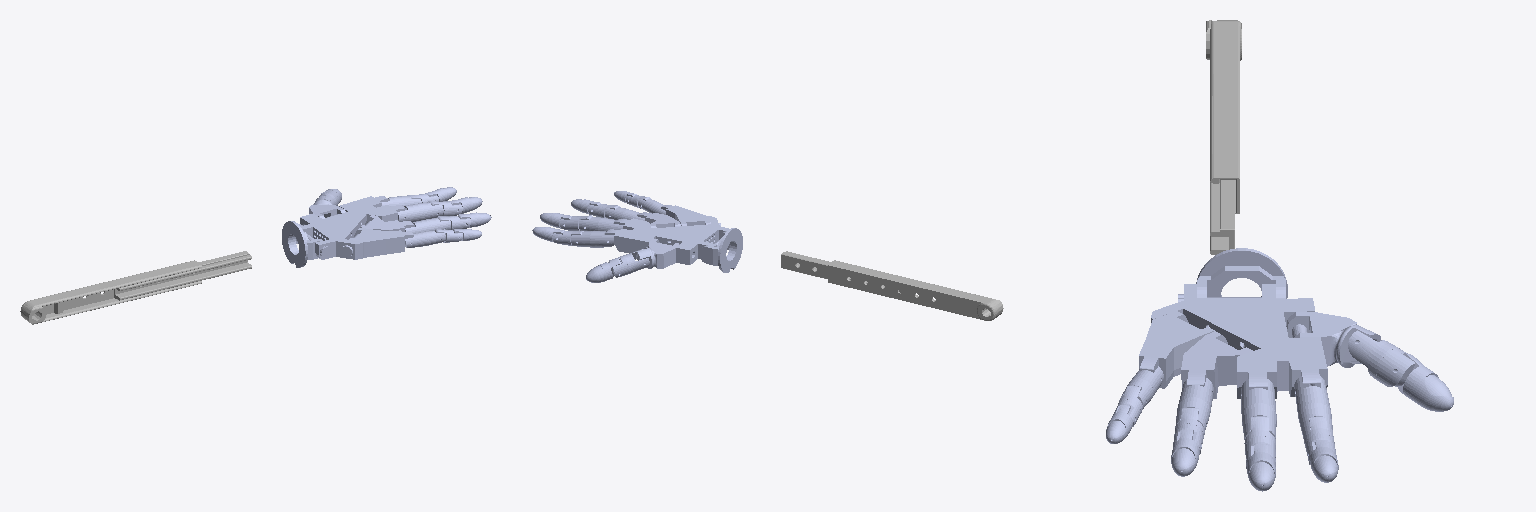
--- Render facts (derived) ---
3 views of the same robot in one strip: view 1: azimuth 30°, elevation 25°; view 2: azimuth 150°, elevation 25°; view 3: azimuth 270°, elevation 25° (orthographic).
Robot: exoskelaton_plus_hand — 23 links, 22 joints (21 revolute, 1 fixed); root link world; default pose: every joint at zero.
Visible links, largest first — view 1: palm, link_5, middle_link_1; view 2: palm, link_5, thumb_link_1, index_link_1, thumb_link_2; view 3: palm, link_5, thumb_link_1, thumb_link_2, thumb_link_3, index_link_1, middle_link_1, ring_link_1, middle_link_3, ring_link_3, index_link_3, middle_link_2 (+5 smaller).
Boxes of the visible links, box(x1,y1,x2,y2) form: palm: box(282, 196, 414, 267); link_5: box(20, 251, 251, 324); middle_link_1: box(398, 202, 443, 221); palm: box(605, 205, 742, 272); link_5: box(781, 251, 1003, 320); thumb_link_1: box(636, 238, 679, 268); index_link_1: box(571, 231, 613, 247); thumb_link_2: box(608, 249, 649, 277); palm: box(1139, 248, 1327, 398); link_5: box(1206, 20, 1241, 254); thumb_link_1: box(1286, 312, 1380, 367); thumb_link_2: box(1348, 330, 1415, 386); thumb_link_3: box(1398, 353, 1453, 411); index_link_1: box(1294, 376, 1332, 439); middle_link_1: box(1241, 379, 1276, 439); ring_link_1: box(1175, 378, 1213, 429); middle_link_3: box(1247, 444, 1275, 491); ring_link_3: box(1171, 430, 1199, 476); index_link_3: box(1310, 440, 1338, 482); middle_link_2: box(1244, 416, 1275, 468).
Size in the robot's own frame: 0.5291 by 0.1771 by 0.0465 metres.
17 mesh visuals loaded from 22 distinct referenced files (17 binary STL); not drawn: 5 (reference not matched to a file when rendering).

URDF robot description (exoskelaton_plus_hand):
<?xml version="1.0" encoding="utf-8" ?>
<!-- This URDF was automatically created by SolidWorks to URDF Exporter! Originally created by Stephen Brawner ([email redacted]) 
     Commit Version: 1.6.0-4-g7f85cfe  Build Version: 1.6.7995.38578
     For more information, please see http://wiki.ros.org/sw_urdf_exporter -->
<robot name="exoskelaton_plus_hand">
    <link name="world" />
    <joint name="world_to_base_link=" type="fixed">
        <parent link="world" />
        <child link="base_link" />
    </joint>
    <link name="base_link">
        <inertial>
            <origin xyz="-0.0836207176577604 0.00875481719950126 -0.182578110095897" rpy="0 0 0" />
            <mass value="2.51510979215834" />
            <inertia ixx="0.0228818124596641" ixy="2.21405760466253E-06" ixz="-2.41054719117493E-05" iyy="0.0160894130168314" iyz="2.94271508438108E-06" izz="0.00835275247773463" />
        </inertial>
        <visual>
            <origin xyz="0 0 0" rpy="0 0 0" />
            <geometry>
                <mesh filename="package://exoskelaton_plus_hand/meshes/base_link.STL" />
            </geometry>
            <material name="">
                <color rgba="0.749019607843137 0.749019607843137 0.749019607843137 1" />
            </material>
        </visual>
        <collision>
            <origin xyz="0 0 0" rpy="0 0 0" />
            <geometry>
                <mesh filename="package://exoskelaton_plus_hand/meshes/base_link.STL" />
            </geometry>
        </collision>
    </link>
    <link name="link_1">
        <inertial>
            <origin xyz="0.00051632 0.11245 0.1143" rpy="0 0 0" />
            <mass value="1.1771" />
            <inertia ixx="0.0010591" ixy="1.4114E-07" ixz="-2.4025E-05" iyy="0.00080811" iyz="-2.4443E-05" izz="0.00047305" />
        </inertial>
        <visual>
            <origin xyz="0 0 0" rpy="0 0 0" />
            <geometry>
                <mesh filename="package://exoskelaton_plus_hand/meshes/link_1.STL" />
            </geometry>
            <material name="">
                <color rgba="0.75294 0.75294 0.75294 1" />
            </material>
        </visual>
        <collision>
            <origin xyz="0 0 0" rpy="0 0 0" />
            <geometry>
                <mesh filename="package://exoskelaton_plus_hand/meshes/link_1.STL" />
            </geometry>
        </collision>
    </link>
    <joint name="joint_1" type="revolute">
        <origin xyz="-0.15576841452816 0.00880518561429395 -0.265864926099811" rpy="-0.00036152630959631 -0.000297710155103675 -3.14159254595974" />
        <parent link="base_link" />
        <child link="link_1" />
        <axis xyz="0 0 -1" />
        <limit lower="-3.14" upper="3.14" effort="50" velocity="3.49" />
    </joint>
    <link name="link_2">
        <inertial>
            <origin xyz="-0.0047682 0.19042 0.042951" rpy="0 0 0" />
            <mass value="1.1565" />
            <inertia ixx="0.0010548" ixy="-2.0035E-05" ixz="-3.0714E-08" iyy="0.00039569" iyz="-2.1223E-06" izz="0.00087969" />
        </inertial>
        <visual>
            <origin xyz="0 0 0" rpy="0 0 0" />
            <geometry>
                <mesh filename="package://exoskelaton_plus_hand/meshes/link_2.STL" />
            </geometry>
            <material name="">
                <color rgba="0.75294 0.75294 0.75294 1" />
            </material>
        </visual>
        <collision>
            <origin xyz="0 0 0" rpy="0 0 0" />
            <geometry>
                <mesh filename="package://exoskelaton_plus_hand/meshes/link_2.STL" />
            </geometry>
        </collision>
    </link>
    <joint name="joint_2" type="revolute">
        <origin xyz="-0.0385000000000007 0.117999999999999 0.130760035281312" rpy="-0.037127716917956 -1.57079631189374 0.0371631202033193" />
        <parent link="link_1" />
        <child link="link_2" />
        <axis xyz="0 0 -1" />
        <limit lower="-3.14" upper="3.14" effort="50" velocity="3.49" />
    </joint>
    <link name="link_3">
        <inertial>
            <origin xyz="-0.0082161 0.18797 0.044015" rpy="0 0 0" />
            <mass value="1.1562" />
            <inertia ixx="0.0010542" ixy="2.8457E-05" ixz="-4.9159E-08" iyy="0.00039561" iyz="1.6209E-06" izz="0.0008792" />
        </inertial>
        <visual>
            <origin xyz="0 0 0" rpy="0 0 0" />
            <geometry>
                <mesh filename="package://exoskelaton_plus_hand/meshes/link_3.STL" />
            </geometry>
            <material name="">
                <color rgba="0.75294 0.75294 0.75294 1" />
            </material>
        </visual>
        <collision>
            <origin xyz="0 0 0" rpy="0 0 0" />
            <geometry>
                <mesh filename="package://exoskelaton_plus_hand/meshes/link_3.STL" />
            </geometry>
        </collision>
    </link>
    <joint name="joint_3" type="revolute">
        <origin xyz="-0.0440000000000005 0.204606049200406 0.045999999999999" rpy="1.57079632679491 0 -1.5707963267949" />
        <parent link="link_2" />
        <child link="link_3" />
        <axis xyz="0 0 -1" />
        <limit lower="-3.14" upper="3.14" effort="50" velocity="3.49" />
    </joint>
    <link name="link_4">
        <inertial>
            <origin xyz="0.030218 0.25657 -0.030079" rpy="0 0 0" />
            <mass value="1.19" />
            <inertia ixx="0.0011316" ixy="-1.8161E-05" ixz="3.377E-07" iyy="0.00040064" iyz="2.4483E-05" izz="0.0013155" />
        </inertial>
        <visual>
            <origin xyz="0 0 0" rpy="0 0 0" />
            <geometry>
                <mesh filename="package://exoskelaton_plus_hand/meshes/link_4.STL" />
            </geometry>
            <material name="">
                <color rgba="0.75294 0.75294 0.75294 1" />
            </material>
        </visual>
        <collision>
            <origin xyz="0 0 0" rpy="0 0 0" />
            <geometry>
                <mesh filename="package://exoskelaton_plus_hand/meshes/link_4.STL" />
            </geometry>
        </collision>
    </link>
    <joint name="joint_4" type="revolute">
        <origin xyz="0.0330000000000062 0.202007049200406 0.0469999999999915" rpy="1.5707963267949 0 1.57109403696946" />
        <parent link="link_3" />
        <child link="link_4" />
        <axis xyz="0.00029771017016183 0 -0.999999955684326" />
        <limit lower="-3.14" upper="3.14" effort="50" velocity="3.49" />
    </joint>
    <link name="link_5">
        <inertial>
            <origin xyz="3.5672E-06 -0.11826 -0.007807" rpy="0 0 0" />
            <mass value="0.073555" />
            <inertia ixx="0.00021048" ixy="3.6788E-09" ixz="1.899E-09" iyy="4.4387E-06" iyz="1.3841E-06" izz="0.00021197" />
        </inertial>
        <visual>
            <origin xyz="0 0 0" rpy="0 0 0" />
            <geometry>
                <mesh filename="package://exoskelaton_plus_hand/meshes/link_5.STL" />
            </geometry>
            <material name="">
                <color rgba="0.75294 0.75294 0.75294 1" />
            </material>
        </visual>
        <collision>
            <origin xyz="0 0 0" rpy="0 0 0" />
            <geometry>
                <mesh filename="package://exoskelaton_plus_hand/meshes/link_5.STL" />
            </geometry>
        </collision>
    </link>
    <joint name="joint_5" type="revolute">
        <origin xyz="0.032755858725567 0.275947208661753 0.0100097521958599" rpy="-0.000297710174561625 0 1.57079632679491" />
        <parent link="link_4" />
        <child link="link_5" />
        <axis xyz="0 0 -1" />
        <limit lower="-3.14" upper="3.14" effort="50" velocity="3.49" />
    </joint>
    <transmission name="trans_joint_1">
        <type>transmission_interface/SimpleTransmission</type>
        <joint name="joint_1">
            <hardwareInterface>hardware_interface/EffortJointInterface</hardwareInterface>
        </joint>
        <actuator name="joint_1_motor">
            <hardwareInterface>hardware_interface/EffortJointInterface</hardwareInterface>
            <mechanicalReduction>1</mechanicalReduction>
        </actuator>
    </transmission>
    <transmission name="trans_joint_2">
        <type>transmission_interface/SimpleTransmission</type>
        <joint name="joint_2">
            <hardwareInterface>hardware_interface/EffortJointInterface</hardwareInterface>
        </joint>
        <actuator name="joint_2_motor">
            <hardwareInterface>hardware_interface/EffortJointInterface</hardwareInterface>
            <mechanicalReduction>1</mechanicalReduction>
        </actuator>
    </transmission>
    <transmission name="trans_joint_3">
        <type>transmission_interface/SimpleTransmission</type>
        <joint name="joint_3">
            <hardwareInterface>hardware_interface/EffortJointInterface</hardwareInterface>
        </joint>
        <actuator name="joint_3_motor">
            <hardwareInterface>hardware_interface/EffortJointInterface</hardwareInterface>
            <mechanicalReduction>1</mechanicalReduction>
        </actuator>
    </transmission>
    <transmission name="trans_joint_4">
        <type>transmission_interface/SimpleTransmission</type>
        <joint name="joint_4">
            <hardwareInterface>hardware_interface/EffortJointInterface</hardwareInterface>
        </joint>
        <actuator name="joint_4_motor">
            <hardwareInterface>hardware_interface/EffortJointInterface</hardwareInterface>
            <mechanicalReduction>1</mechanicalReduction>
        </actuator>
    </transmission>
    <transmission name="trans_joint_5">
        <type>transmission_interface/SimpleTransmission</type>
        <joint name="joint_5">
            <hardwareInterface>hardware_interface/EffortJointInterface</hardwareInterface>
        </joint>
        <actuator name="joint_5_motor">
            <hardwareInterface>hardware_interface/EffortJointInterface</hardwareInterface>
            <mechanicalReduction>1</mechanicalReduction>
        </actuator>
    </transmission>
    <gazebo>
        <plugin name="gazebo_ros_control" filename="libgazebo_ros_control.so">
            <robotNamespace>/exoskelaton_plus_hand</robotNamespace>
        </plugin>
    </gazebo>
    <gazebo reference="base_link">
        <mu1>0.2</mu1>
        <mu2>0.2</mu2>
        <kd>0.2</kd>
        <gravity>0</gravity>
    </gazebo>
    <gazebo reference="link_1">
        <mu1>0.2</mu1>
        <mu2>0.2</mu2>
        <kd>0.2</kd>
        <gravity>0</gravity>
    </gazebo>
    <gazebo reference="link_2">
        <mu1>0.2</mu1>
        <mu2>0.2</mu2>
        <kd>0.2</kd>
        <gravity>0</gravity>
    </gazebo>
    <gazebo reference="link_3">
        <mu1>0.2</mu1>
        <mu2>0.2</mu2>
        <kd>0.2</kd>
        <gravity>0</gravity>
    </gazebo>
    <gazebo reference="link_4">
        <mu1>0.2</mu1>
        <mu2>0.2</mu2>
        <kd>0.2</kd>
        <gravity>0</gravity>
    </gazebo>
    <gazebo reference="link_5">
        <mu1>0.2</mu1>
        <mu2>0.2</mu2>
        <kd>0.2</kd>
        <gravity>0</gravity>
    </gazebo>
    <!-- ///////////////////////////////////////////////////////////////////////hand/////////////////////////////////////////////////////////////// -->
    <!-- ///////////////////////////////////////////////////////////////////////hand/////////////////////////////////////////////////////////////// -->
    <!-- ///////////////////////////////////////////////////////////////////////hand/////////////////////////////////////////////////////////////// -->
    <!-- ///////////////////////////////////////////////////////////////////////hand/////////////////////////////////////////////////////////////// -->
    <joint name="link_5_to_palm" type="revolute">
        <origin xyz="0 -0.3 0" rpy="1.5708 1.5708 0" />
        <parent link="link_5" />
        <child link="palm" />
        <axis xyz="0 0 -1" />
        <limit lower="-1" upper="2" effort="15" velocity="137" />
    </joint>
    <link name="palm">
        <inertial>
            <origin xyz="0.00398178507403143 8.10912535103292E-05 0.0640495520207742" rpy="0 0 0" />
            <mass value="0.111751758328988" />
            <!-- <inertia ixx="6.59202525142851E-05" ixy="-1.22829107034955E-07" ixz="1.81754919948642E-05" iyy="9.3013080838165E-05" iyz="2.30342036318053E-07" izz="3.38720512333921E-05" /> -->
            <inertia ixx="1e-3" ixy="0.0" ixz="0.0" iyy="1e-3" iyz="0.0" izz="1e-3" />
        </inertial>
        <visual>
            <origin xyz="0 0 0" rpy="0 0 0" />
            <geometry>
                <mesh filename="package://hand_model/meshes/palm.STL" />
            </geometry>
            <material name="">
                <color rgba="0.792156862745098 0.819607843137255 0.933333333333333 1" />
            </material>
        </visual>
        <collision>
            <origin xyz="0 0 0" rpy="0 0 0" />
            <geometry>
                <mesh filename="package://hand_model/meshes/palm.STL" />
            </geometry>
        </collision>
    </link>
    <gazebo reference="palm">
        <mu1>0.2</mu1>
        <mu2>0.2</mu2>
        <kd>0.2</kd>
        <gravity>0</gravity>
    </gazebo>

    <link name="thumb_link_1">
        <inertial>
            <origin xyz="0.000480535490973766 0.0145868596829117 0.002112956638099" rpy="0 0 0" />
            <mass value="0.0113562962089711" />
            <!-- <inertia ixx="1.13781700766449E-06" ixy="-3.17874553723836E-09" ixz="1.02179230912118E-08" iyy="9.83244760493048E-07" iyz="7.32596805137895E-08" izz="7.56438518318171E-07" /> -->
            <inertia ixx="1e-3" ixy="0.0" ixz="0.0" iyy="1e-3" iyz="0.0" izz="1e-3" />
        </inertial>
        <visual>
            <origin xyz="0 0 0" rpy="0 0 0" />
            <geometry>
                <mesh filename="package://hand_model/meshes/thumb_link_1.STL" />
            </geometry>
            <material name="">
                <color rgba="0.792156862745098 0.819607843137255 0.933333333333333 1" />
            </material>
        </visual>
        <collision>
            <origin xyz="0 0 0" rpy="0 0 0" />
            <geometry>
                <mesh filename="package://hand_model/meshes/thumb_link_1.STL" />
            </geometry>
        </collision>
    </link>
    <gazebo reference="thumb_link_1">
        <mu1>0.2</mu1>
        <mu2>0.2</mu2>
        <kd>0.2</kd>
        <gravity>0</gravity>
    </gazebo>
    <joint name="thumb_joint_1" type="revolute">
        <origin xyz="-0.030154 -2.0111E-05 0.05991" rpy="-0.083072 0 1.5708" />
        <parent link="palm" />
        <child link="thumb_link_1" />
        <axis xyz="0 0 -1" />
        <limit lower="-1" upper="2" effort="15" velocity="137" />
    </joint>
    <link name="thumb_link_2">
        <inertial>
            <origin xyz="-0.00303085130066873 0.017257431665413 -0.000249993554026592" rpy="0 0 0" />
            <mass value="0.00578743285449284" />
            <inertia ixx="1e-3" ixy="0.0" ixz="0.0" iyy="1e-3" iyz="0.0" izz="1e-3" />
            <!-- <inertia ixx="3.72260695118556E-07" ixy="6.77304435528928E-09" ixz="6.94275441710355E-13" iyy="3.36039703432571E-07" iyz="5.44710417598588E-13" izz="2.90221029790483E-07" /> -->
        </inertial>
        <visual>
            <origin xyz="0 0 0" rpy="0 0 0" />
            <geometry>
                <mesh filename="package://hand_model/meshes/thumb_link_2.STL" />
            </geometry>
            <material name="">
                <color rgba="0.792156862745098 0.819607843137255 0.933333333333333 1" />
            </material>
        </visual>
        <collision>
            <origin xyz="0 0 0" rpy="0 0 0" />
            <geometry>
                <mesh filename="package://hand_model/meshes/thumb_link_2.STL" />
            </geometry>
        </collision>
    </link>
    <gazebo reference="thumb_link_2">
        <mu1>0.2</mu1>
        <mu2>0.2</mu2>
        <kd>0.2</kd>
        <gravity>0</gravity>
    </gazebo>
    <joint name="thumb_joint_2" type="revolute">
        <origin xyz="-0.002073 0.032273 0.012004" rpy="0.82045 0.054788 -0.71905" />
        <parent link="thumb_link_1" />
        <child link="thumb_link_2" />
        <axis xyz="0 0 -1" />
        <limit lower="-1" upper="2" effort="15" velocity="137" />
    </joint>
    <link name="thumb_link_3">
        <inertial>
            <origin xyz="-0.00349327848726758 0.0128547260693688 -9.39948939422675E-06" rpy="0 0 0" />
            <mass value="0.00408620369773343" />
            <inertia ixx="1e-3" ixy="0.0" ixz="0.0" iyy="1e-3" iyz="0.0" izz="1e-3" />
            <!-- <inertia ixx="1.85582766063067E-07" ixy="-8.83579093640966E-09" ixz="-1.32434624542555E-10" iyy="1.61808260214828E-07" iyz="-5.23413946701733E-11" izz="1.9595038842159E-07" /> -->
        </inertial>
        <visual>
            <origin xyz="0 0 0" rpy="0 0 0" />
            <geometry>
                <mesh filename="package://hand_model/meshes/thumb_link_3.STL" />
            </geometry>
            <material name="">
                <color rgba="0.792156862745098 0.819607843137255 0.933333333333333 1" />
            </material>
        </visual>
        <collision>
            <origin xyz="0 0 0" rpy="0 0 0" />
            <geometry>
                <mesh filename="package://hand_model/meshes/thumb_link_3.STL" />
            </geometry>
        </collision>
    </link>
    <gazebo reference="thumb_link_3">
        <mu1>0.2</mu1>
        <mu2>0.2</mu2>
        <kd>0.2</kd>
        <gravity>0</gravity>
    </gazebo>
    <joint name="thumb_joint_3" type="revolute">
        <origin xyz="-0.007204 0.027206 -0.00025" rpy="0 0 0" />
        <parent link="thumb_link_2" />
        <child link="thumb_link_3" />
        <axis xyz="0 0 -1" />
        <limit lower="-1" upper="2" effort="15" velocity="137" />
    </joint>
    <link name="index_link_1">
        <inertial>
            <origin xyz="0.00407338133198946 0.0177525322104453 2.43319666984321E-08" rpy="0 0 0" />
            <mass value="0.0046466246966024" />
            <inertia ixx="1e-3" ixy="0.0" ixz="0.0" iyy="1e-3" iyz="0.0" izz="1e-3" />
            <!-- <inertia ixx="3.38369766839694E-07" ixy="-2.47947379691602E-08" ixz="1.44225221072837E-10" iyy="2.24949299831406E-07" iyz="-2.44769897321249E-11" izz="2.9890250388258E-07" /> -->
        </inertial>
        <visual>
            <origin xyz="0 0 0" rpy="0 0 0" />
            <geometry>
                <mesh filename="package://hand_model/meshes/index_link_1.STL" />
            </geometry>
            <material name="">
                <color rgba="0.792156862745098 0.819607843137255 0.933333333333333 1" />
            </material>
        </visual>
        <collision>
            <origin xyz="0 0 0" rpy="0 0 0" />
            <geometry>
                <mesh filename="package://hand_model/meshes/index_link_1.STL" />
            </geometry>
        </collision>
    </link>
    <gazebo reference="index_link_1">
        <mu1>0.2</mu1>
        <mu2>0.2</mu2>
        <kd>0.2</kd>
        <gravity>0</gravity>
    </gazebo>
    <joint name="index_joint_1" type="revolute">
        <origin xyz="-0.035268 0.00047989 0.12131" rpy="1.4739 0 1.5708" />
        <parent link="palm" />
        <child link="index_link_1" />
        <axis xyz="0 0 -1" />
        <limit lower="-1" upper="2" effort="15" velocity="137" />
    </joint>
    <link name="index_link_2">
        <inertial>
            <origin xyz="-1.5439372539866E-05 0.010908424048257 3.00263251588884E-07" rpy="0 0 0" />
            <mass value="0.00296941760010457" />
            <inertia ixx="1e-3" ixy="0.0" ixz="0.0" iyy="1e-3" iyz="0.0" izz="1e-3" />
            <!-- <inertia ixx="1.09847057187147E-07" ixy="-8.3784028766554E-09" ixz="4.58168497393427E-12" iyy="9.39400733606131E-08" iyz="5.81266068790845E-12" izz="1.09028692776289E-07" /> -->
        </inertial>
        <visual>
            <origin xyz="0 0 0" rpy="0 0 0" />
            <geometry>
                <mesh filename="package://hand_model/meshes/index_link_2.STL" />
            </geometry>
            <material name="">
                <color rgba="0.792156862745098 0.819607843137255 0.933333333333333 1" />
            </material>
        </visual>
        <collision>
            <origin xyz="0 0 0" rpy="0 0 0" />
            <geometry>
                <mesh filename="package://hand_model/meshes/index_link_2.STL" />
            </geometry>
        </collision>
    </link>
    <gazebo reference="index_link_2">
        <mu1>0.2</mu1>
        <mu2>0.2</mu2>
        <kd>0.2</kd>
        <gravity>0</gravity>
    </gazebo>
    <joint name="index_joint_2" type="revolute">
        <origin xyz="0.0076786 0.034995 0" rpy="0 0 0" />
        <parent link="index_link_1" />
        <child link="index_link_2" />
        <axis xyz="0 0 -1" />
        <limit lower="-1" upper="2" effort="15" velocity="137" />
    </joint>
    <link name="index_link_3">
        <inertial>
            <origin xyz="-0.000487872429690561 0.0114597226343094 -1.57240996635777E-06" rpy="0 0 0" />
            <mass value="0.00245834972177606" />
            <inertia ixx="1e-3" ixy="0.0" ixz="0.0" iyy="1e-3" iyz="0.0" izz="1e-3" />
            <!-- <inertia ixx="8.11602987802594E-08" ixy="-5.06755476403747E-09" ixz="-2.83209703693174E-11" iyy="6.0922204814845E-08" iyz="-3.32151067881427E-11" izz="8.42602481875842E-08" /> -->
        </inertial>
        <visual>
            <origin xyz="0 0 0" rpy="0 0 0" />
            <geometry>
                <mesh filename="package://hand_model/meshes/index_link_3.STL" />
            </geometry>
            <material name="">
                <color rgba="0.792156862745098 0.819607843137255 0.933333333333333 1" />
            </material>
        </visual>
        <collision>
            <origin xyz="0 0 0" rpy="0 0 0" />
            <geometry>
                <mesh filename="package://hand_model/meshes/index_link_3.STL" />
            </geometry>
        </collision>
    </link>
    <gazebo reference="index_link_3">
        <mu1>0.2</mu1>
        <mu2>0.2</mu2>
        <kd>0.2</kd>
        <gravity>0</gravity>
    </gazebo>
    <joint name="index_joint_3" type="revolute">
        <origin xyz="0.000847006741910045 0.0230332928514179 0" rpy="0 0 0" />
        <parent link="index_link_2" />
        <child link="index_link_3" />
        <axis xyz="0 0 -1" />
        <limit lower="-1" upper="2" effort="15" velocity="137" />
    </joint>
    <link name="middle_link_1">
        <inertial>
            <origin xyz="0.00251904243680481 0.0190498026770943 2.52256893923733E-06" rpy="0 0 0" />
            <mass value="0.00545626174368886" />
            <inertia ixx="1e-3" ixy="0.0" ixz="0.0" iyy="1e-3" iyz="0.0" izz="1e-3" />
            <!-- <inertia ixx="4.46988355734783E-07" ixy="-1.79702663003493E-08" ixz="1.90530330665356E-10" iyy="2.89246503300969E-07" iyz="-1.41330773802651E-11" izz="3.9065421775643E-07" /> -->
        </inertial>
        <visual>
            <origin xyz="0 0 0" rpy="0 0 0" />
            <geometry>
                <mesh filename="package://hand_model/meshes/middle_link_1.STL" />
            </geometry>
            <material name="">
                <color rgba="0.792156862745098 0.819607843137255 0.933333333333333 1" />
            </material>
        </visual>
        <collision>
            <origin xyz="0 0 0" rpy="0 0 0" />
            <geometry>
                <mesh filename="package://hand_model/meshes/middle_link_1.STL" />
            </geometry>
        </collision>
    </link>
    <gazebo reference="middle_link_1">
        <mu1>0.2</mu1>
        <mu2>0.2</mu2>
        <kd>0.2</kd>
        <gravity>0</gravity>
    </gazebo>
    <joint name="middle_joint_1" type="revolute">
        <origin xyz="-0.0083551 0.00047989 0.12582" rpy="1.547 0 1.5708" />
        <parent link="palm" />
        <child link="middle_link_1" />
        <axis xyz="0 0 -1" />
        <limit lower="-1" upper="2" effort="15" velocity="137" />
    </joint>
    <link name="middle_link_2">
        <inertial>
            <origin xyz="0.000880161188127726 0.0114746705006476 4.00731621696612E-07" rpy="0 0 0" />
            <mass value="0.00348681182236452" />
            <inertia ixx="1e-3" ixy="0.0" ixz="0.0" iyy="1e-3" iyz="0.0" izz="1e-3" />
            <!-- <inertia ixx="1.41738873476372E-07" ixy="-1.24314266526586E-08" ixz="6.05937003196824E-12" iyy="1.24602391482965E-07" iyz="6.20347461624125E-12" izz="1.42495929181389E-07" /> -->
        </inertial>
        <visual>
            <origin xyz="0 0 0" rpy="0 0 0" />
            <geometry>
                <mesh filename="package://hand_model/meshes/middle_link_2.STL" />
            </geometry>
            <material name="">
                <color rgba="0.792156862745098 0.819607843137255 0.933333333333333 1" />
            </material>
        </visual>
        <collision>
            <origin xyz="0 0 0" rpy="0 0 0" />
            <geometry>
                <mesh filename="package://hand_model/meshes/middle_link_2.STL" />
            </geometry>
        </collision>
    </link>
    <gazebo reference="middle_link_2">
        <mu1>0.2</mu1>
        <mu2>0.2</mu2>
        <kd>0.2</kd>
        <gravity>0</gravity>
    </gazebo>
    <joint name="middle_joint_2" type="revolute">
        <origin xyz="0.00459697603869801 0.0375173079770415 0" rpy="0 0 0" />
        <parent link="middle_link_1" />
        <child link="middle_link_2" />
        <axis xyz="0 0 -1" />
        <limit lower="-1" upper="2" effort="15" velocity="137" />
    </joint>
    <link name="middle_link_3">
        <inertial>
            <origin xyz="5.37425869840402E-05 0.0121009108879537 -1.66057694117681E-06" rpy="0 0 0" />
            <mass value="0.00288670521848281" />
            <inertia ixx="1e-3" ixy="0.0" ixz="0.0" iyy="1e-3" iyz="0.0" izz="1e-3" />
            <!-- <inertia ixx="1.05394832954209E-07" ixy="-7.83485651909123E-09" ixz="-3.89173185887022E-11" iyy="8.03025413579198E-08" iyz="-4.15543641170679E-11" izz="1.10126113548967E-07" /> -->
        </inertial>
        <visual>
            <origin xyz="0 0 0" rpy="0 0 0" />
            <geometry>
                <mesh filename="package://hand_model/meshes/middle_link_3.STL" />
            </geometry>
            <material name="">
                <color rgba="0.792156862745098 0.819607843137255 0.933333333333333 1" />
            </material>
        </visual>
        <collision>
            <origin xyz="0 0 0" rpy="0 0 0" />
            <geometry>
                <mesh filename="package://hand_model/meshes/middle_link_3.STL" />
            </geometry>
        </collision>
    </link>
    <gazebo reference="middle_link_3">
        <mu1>0.2</mu1>
        <mu2>0.2</mu2>
        <kd>0.2</kd>
        <gravity>0</gravity>
    </gazebo>
    <joint name="middle_joint_3" type="revolute">
        <origin xyz="0.0027837 0.024157 0" rpy="0 0 0" />
        <parent link="middle_link_2" />
        <child link="middle_link_3" />
        <axis xyz="0 0 -1" />
        <limit lower="-1" upper="2" effort="15" velocity="137" />
    </joint>
    <link name="ring_link_1">
        <inertial>
            <origin xyz="0.000823916052037396 0.018195238836138 5.00087841322841E-05" rpy="0 0 0" />
            <mass value="0.00464663274460316" />
            <inertia ixx="1e-3" ixy="0.0" ixz="0.0" iyy="1e-3" iyz="0.0" izz="1e-3" />
            <!-- <inertia ixx="3.43469696913586E-07" ixy="-3.19119027240479E-09" ixz="1.45711871260807E-10" iyy="2.19848338835539E-07" iyz="1.81868990757054E-12" izz="2.98903887716956E-07" /> -->
        </inertial>
        <visual>
            <origin xyz="0 0 0" rpy="0 0 0" />
            <geometry>
                <mesh filename="package://hand_model/meshes/ring_link_1.STL" />
            </geometry>
            <material name="">
                <color rgba="0.792156862745098 0.819607843137255 0.933333333333333 1" />
            </material>
        </visual>
        <collision>
            <origin xyz="0 0 0" rpy="0 0 0" />
            <geometry>
                <mesh filename="package://hand_model/meshes/ring_link_1.STL" />
            </geometry>
        </collision>
    </link>
    <gazebo reference="ring_link_1">
        <mu1>0.2</mu1>
        <mu2>0.2</mu2>
        <kd>0.2</kd>
        <gravity>0</gravity>
    </gazebo>
    <joint name="ring_joint_1" type="revolute">
        <origin xyz="0.0226342745747556 0.00320405106578732 0.117484377731786" rpy="1.65768440995122 0 1.62662995106835" />
        <parent link="palm" />
        <child link="ring_link_1" />
        <axis xyz="0 0 -1" />
        <limit lower="-1" upper="2" effort="15" velocity="137" />
    </joint>
    <link name="ring_link_2">
        <inertial>
            <origin xyz="-0.000432388535001244 0.0108998702030702 4.75443835173256E-07" rpy="0 0 0" />
            <mass value="0.00296941842138868" />
            <inertia ixx="1e-3" ixy="0.0" ixz="0.0" iyy="1e-3" iyz="0.0" izz="1e-3" />
            <!-- <inertia ixx="1.10463879228306E-07" ixy="-7.74638165034737E-09" ixz="3.8240027072717E-12" iyy="9.3323265854841E-08" iyz="4.36314007998678E-12" izz="1.09028708081398E-07" /> -->
        </inertial>
        <visual>
            <origin xyz="0 0 0" rpy="0 0 0" />
            <geometry>
                <mesh filename="package://hand_model/meshes/ring_link_2.STL" />
            </geometry>
            <material name="">
                <color rgba="0.792156862745098 0.819607843137255 0.933333333333333 1" />
            </material>
        </visual>
        <collision>
            <origin xyz="0 0 0" rpy="0 0 0" />
            <geometry>
                <mesh filename="package://hand_model/meshes/ring_link_2.STL" />
            </geometry>
        </collision>
    </link>
    <gazebo reference="ring_link_2">
        <mu1>0.2</mu1>
        <mu2>0.2</mu2>
        <kd>0.2</kd>
        <gravity>0</gravity>
    </gazebo>
    <joint name="ring_joint_2" type="revolute">
        <origin xyz="0.0012788 0.035805 5E-05" rpy="0 0 0" />
        <parent link="ring_link_1" />
        <child link="ring_link_2" />
        <axis xyz="0 0 -1" />
        <limit lower="-1" upper="2" effort="15" velocity="137" />
    </joint>
    <link name="ring_link_3">
        <inertial>
            <origin xyz="0.000515277857644728 0.0114586186078016 -1.57570140629087E-06" rpy="0 0 0" />
            <mass value="0.0024583610636929" />
            <inertia ixx="1e-3" ixy="0.0" ixz="0.0" iyy="1e-3" iyz="0.0" izz="1e-3" />
            <!-- <inertia ixx="8.01251621607957E-08" ixy="-6.75175030101657E-09" ixz="-3.1017025931551E-11" iyy="6.19586614914186E-08" iyz="-3.05623454712637E-11" izz="8.42616837502922E-08" /> -->
        </inertial>
        <visual>
            <origin xyz="0 0 0" rpy="0 0 0" />
            <geometry>
                <mesh filename="package://hand_model/meshes/ring_link_3.STL" />
            </geometry>
            <material name="">
                <color rgba="0.792156862745098 0.819607843137255 0.933333333333333 1" />
            </material>
        </visual>
        <collision>
            <origin xyz="0 0 0" rpy="0 0 0" />
            <geometry>
                <mesh filename="package://hand_model/meshes/ring_link_3.STL" />
            </geometry>
        </collision>
    </link>
    <gazebo reference="ring_link_3">
        <mu1>0.2</mu1>
        <mu2>0.2</mu2>
        <kd>0.2</kd>
        <gravity>0</gravity>
    </gazebo>
    <joint name="ring_joint_3" type="revolute">
        <origin xyz="-3.40420420648219E-05 0.0230488360040028 0" rpy="0 0 0" />
        <parent link="ring_link_2" />
        <child link="ring_link_3" />
        <axis xyz="0 0 -1" />
        <limit lower="-1" upper="2" effort="15" velocity="137" />
    </joint>
    <link name="little_link_1">
        <inertial>
            <origin xyz="-0.00024361 0.015179 0.0001294" rpy="0 0 0" />
            <mass value="0.0026906" />
            <inertia ixx="1e-3" ixy="0.0" ixz="0.0" iyy="1e-3" iyz="0.0" izz="1e-3" />
            <!-- <inertia ixx="1.3814E-07" ixy="1.7664E-09" ixz="5.8481E-11" iyy="8.847E-08" iyz="4.1826E-12" izz="1.2024E-07" /> -->
        </inertial>
        <visual>
            <origin xyz="0 0 0" rpy="0 0 0" />
            <geometry>
                <mesh filename="package://hand_model/meshes/little_link_1.STL" />
            </geometry>
            <material name="">
                <color rgba="0.79216 0.81961 0.93333 1" />
            </material>
        </visual>
        <collision>
            <origin xyz="0 0 0" rpy="0 0 0" />
            <geometry>
                <mesh filename="package://hand_model/meshes/little_link_1.STL" />
            </geometry>
        </collision>
    </link>
    <gazebo reference="little_link_1">
        <mu1>0.2</mu1>
        <mu2>0.2</mu2>
        <kd>0.2</kd>
        <gravity>0</gravity>
    </gazebo>
    <joint name="little_joint_1" type="revolute">
        <origin xyz="0.0471983745399469 0.000985065663559576 0.103855745405405" rpy="1.8247619964648 0 1.57975463552551" />
        <parent link="palm" />
        <child link="little_link_1" />
        <axis xyz="0 0 -1" />
        <limit lower="-1" upper="2" effort="15" velocity="137" />
    </joint>
    <link name="little_link_2">
        <inertial>
            <origin xyz="-5.14078945346441E-05 0.00909196530865719 1.45681774497974E-07" rpy="0 0 0" />
            <mass value="0.00171949570189397" />
            <inertia ixx="1e-3" ixy="0.0" ixz="0.0" iyy="1e-3" iyz="0.0" izz="1e-3" />
            <!-- <inertia ixx="4.42251425969163E-08" ixy="-3.34385973164639E-09" ixz="2.12015704299987E-12" iyy="3.77628200395036E-08" iyz="3.02015825400748E-12" izz="4.38544223193975E-08" /> -->
        </inertial>
        <visual>
            <origin xyz="0 0 0" rpy="0 0 0" />
            <geometry>
                <mesh filename="package://hand_model/meshes/little_link_2.STL" />
            </geometry>
            <material name="">
                <color rgba="0.792156862745098 0.819607843137255 0.933333333333333 1" />
            </material>
        </visual>
        <collision>
            <origin xyz="0 0 0" rpy="0 0 0" />
            <geometry>
                <mesh filename="package://hand_model/meshes/little_link_2.STL" />
            </geometry>
        </collision>
    </link>
    <gazebo reference="little_link_2">
        <mu1>0.2</mu1>
        <mu2>0.2</mu2>
        <kd>0.2</kd>
        <gravity>0</gravity>
    </gazebo>
    <joint name="little_joint_2" type="revolute">
        <origin xyz="-0.00076424 0.029852 0.00012939" rpy="0 0 0" />
        <parent link="little_link_1" />
        <child link="little_link_2" />
        <axis xyz="0 0 -1" />
        <limit lower="-1" upper="2" effort="15" velocity="137" />
    </joint>
    <link name="little_link_3">
        <inertial>
            <origin xyz="0.000661822960255715 0.00953748399637797 -1.30618044281994E-06" rpy="0 0 0" />
            <mass value="0.00142350448976469" />
            <inertia ixx="1e-3" ixy="0.0" ixz="0.0" iyy="1e-3" iyz="0.0" izz="1e-3" />
            <!-- <inertia ixx="3.20960725011177E-08" ixy="-2.89068356626485E-09" ixz="-1.27739873269651E-11" iyy="2.50612242140336E-08" iyz="-1.19962559085468E-11" izz="3.38966301117611E-08" /> -->
        </inertial>
        <visual>
            <origin xyz="0 0 0" rpy="0 0 0" />
            <geometry>
                <mesh filename="package://hand_model/meshes/little_link_3.STL" />
            </geometry>
            <material name="">
                <color rgba="0.792156862745098 0.819607843137255 0.933333333333333 1" />
            </material>
        </visual>
        <collision>
            <origin xyz="0 0 0" rpy="0 0 0" />
            <geometry>
                <mesh filename="package://hand_model/meshes/little_link_3.STL" />
            </geometry>
        </collision>
    </link>
    <gazebo reference="little_link_3">
        <mu1>0.2</mu1>
        <mu2>0.2</mu2>
        <kd>0.2</kd>
        <gravity>0</gravity>
    </gazebo>
    <joint name="little_joint_3" type="revolute">
        <origin xyz="0.00062466 0.019201 0" rpy="0 0 0" />
        <parent link="little_link_2" />
        <child link="little_link_3" />
        <axis xyz="0 0 -1" />
        <limit lower="-1" upper="2" effort="15" velocity="137" />
    </joint>
    <transmission name="trans_thumb_joint_1">
        <type>transmission_interface/SimpleTransmission</type>
        <joint name="thumb_joint_1">
            <hardwareInterface>hardware_interface/EffortJointInterface</hardwareInterface>
        </joint>
        <actuator name="thumb_joint_1_motor">
            <hardwareInterface>hardware_interface/EffortJointInterface</hardwareInterface>
            <mechanicalReduction>1</mechanicalReduction>
        </actuator>
    </transmission>
    <transmission name="trans_thumb_joint_2">
        <type>transmission_interface/SimpleTransmission</type>
        <joint name="thumb_joint_2">
            <hardwareInterface>hardware_interface/EffortJointInterface</hardwareInterface>
        </joint>
        <actuator name="thumb_joint_2_motor">
            <hardwareInterface>hardware_interface/EffortJointInterface</hardwareInterface>
            <mechanicalReduction>1</mechanicalReduction>
        </actuator>
    </transmission>
    <transmission name="trans_thumb_joint_3">
        <type>transmission_interface/SimpleTransmission</type>
        <joint name="thumb_joint_3">
            <hardwareInterface>hardware_interface/EffortJointInterface</hardwareInterface>
        </joint>
        <actuator name="thumb_joint_3_motor">
            <hardwareInterface>hardware_interface/EffortJointInterface</hardwareInterface>
            <mechanicalReduction>1</mechanicalReduction>
        </actuator>
    </transmission>
    <transmission name="trans_index_joint_1">
        <type>transmission_interface/SimpleTransmission</type>
        <joint name="index_joint_1">
            <hardwareInterface>hardware_interface/EffortJointInterface</hardwareInterface>
        </joint>
        <actuator name="index_joint_1_motor">
            <hardwareInterface>hardware_interface/EffortJointInterface</hardwareInterface>
            <mechanicalReduction>1</mechanicalReduction>
        </actuator>
    </transmission>
    <transmission name="trans_index_joint_2">
        <type>transmission_interface/SimpleTransmission</type>
        <joint name="index_joint_2">
            <hardwareInterface>hardware_interface/EffortJointInterface</hardwareInterface>
        </joint>
        <actuator name="index_joint_2_motor">
            <hardwareInterface>hardware_interface/EffortJointInterface</hardwareInterface>
            <mechanicalReduction>1</mechanicalReduction>
        </actuator>
    </transmission>
    <transmission name="trans_index_joint_3">
        <type>transmission_interface/SimpleTransmission</type>
        <joint name="index_joint_3">
            <hardwareInterface>hardware_interface/EffortJointInterface</hardwareInterface>
        </joint>
        <actuator name="index_joint_3_motor">
            <hardwareInterface>hardware_interface/EffortJointInterface</hardwareInterface>
            <mechanicalReduction>1</mechanicalReduction>
        </actuator>
    </transmission>
    <transmission name="trans_middle_joint_1">
        <type>transmission_interface/SimpleTransmission</type>
        <joint name="middle_joint_1">
            <hardwareInterface>hardware_interface/EffortJointInterface</hardwareInterface>
        </joint>
        <actuator name="middle_joint_1_motor">
            <hardwareInterface>hardware_interface/EffortJointInterface</hardwareInterface>
            <mechanicalReduction>1</mechanicalReduction>
        </actuator>
    </transmission>
    <transmission name="trans_middle_joint_2">
        <type>transmission_interface/SimpleTransmission</type>
        <joint name="middle_joint_2">
            <hardwareInterface>hardware_interface/EffortJointInterface</hardwareInterface>
        </joint>
        <actuator name="middle_joint_2_motor">
            <hardwareInterface>hardware_interface/EffortJointInterface</hardwareInterface>
            <mechanicalReduction>1</mechanicalReduction>
        </actuator>
    </transmission>
    <transmission name="trans_middle_joint_3">
        <type>transmission_interface/SimpleTransmission</type>
        <joint name="middle_joint_3">
            <hardwareInterface>hardware_interface/EffortJointInterface</hardwareInterface>
        </joint>
        <actuator name="middle_joint_3_motor">
            <hardwareInterface>hardware_interface/EffortJointInterface</hardwareInterface>
            <mechanicalReduction>1</mechanicalReduction>
        </actuator>
    </transmission>
    <transmission name="trans_ring_joint_1">
        <type>transmission_interface/SimpleTransmission</type>
        <joint name="ring_joint_1">
            <hardwareInterface>hardware_interface/EffortJointInterface</hardwareInterface>
        </joint>
        <actuator name="ring_joint_1_motor">
            <hardwareInterface>hardware_interface/EffortJointInterface</hardwareInterface>
            <mechanicalReduction>1</mechanicalReduction>
        </actuator>
    </transmission>
    <transmission name="trans_ring_joint_2">
        <type>transmission_interface/SimpleTransmission</type>
        <joint name="ring_joint_2">
            <hardwareInterface>hardware_interface/EffortJointInterface</hardwareInterface>
        </joint>
        <actuator name="ring_joint_2_motor">
            <hardwareInterface>hardware_interface/EffortJointInterface</hardwareInterface>
            <mechanicalReduction>1</mechanicalReduction>
        </actuator>
    </transmission>
    <transmission name="trans_ring_joint_3">
        <type>transmission_interface/SimpleTransmission</type>
        <joint name="ring_joint_3">
            <hardwareInterface>hardware_interface/EffortJointInterface</hardwareInterface>
        </joint>
        <actuator name="ring_joint_3_motor">
            <hardwareInterface>hardware_interface/EffortJointInterface</hardwareInterface>
            <mechanicalReduction>1</mechanicalReduction>
        </actuator>
    </transmission>
    <transmission name="trans_little_joint_1">
        <type>transmission_interface/SimpleTransmission</type>
        <joint name="little_joint_1">
            <hardwareInterface>hardware_interface/EffortJointInterface</hardwareInterface>
        </joint>
        <actuator name="little_joint_1_motor">
            <hardwareInterface>hardware_interface/EffortJointInterface</hardwareInterface>
            <mechanicalReduction>1</mechanicalReduction>
        </actuator>
    </transmission>
    <transmission name="trans_little_joint_2">
        <type>transmission_interface/SimpleTransmission</type>
        <joint name="little_joint_2">
            <hardwareInterface>hardware_interface/EffortJointInterface</hardwareInterface>
        </joint>
        <actuator name="little_joint_2_motor">
            <hardwareInterface>hardware_interface/EffortJointInterface</hardwareInterface>
            <mechanicalReduction>1</mechanicalReduction>
        </actuator>
    </transmission>
    <transmission name="trans_little_joint_3">
        <type>transmission_interface/SimpleTransmission</type>
        <joint name="little_joint_3">
            <hardwareInterface>hardware_interface/EffortJointInterface</hardwareInterface>
        </joint>
        <actuator name="little_joint_3_motor">
            <hardwareInterface>hardware_interface/EffortJointInterface</hardwareInterface>
            <mechanicalReduction>1</mechanicalReduction>
        </actuator>
    </transmission>
    <transmission name="trans_link_5_to_palm">
        <type>transmission_interface/SimpleTransmission</type>
        <joint name="link_5_to_palm">
            <hardwareInterface>hardware_interface/EffortJointInterface</hardwareInterface>
        </joint>
        <actuator name="link_5_to_palm_motor">
            <hardwareInterface>hardware_interface/EffortJointInterface</hardwareInterface>
            <mechanicalReduction>1</mechanicalReduction>
        </actuator>
    </transmission>


</robot>
